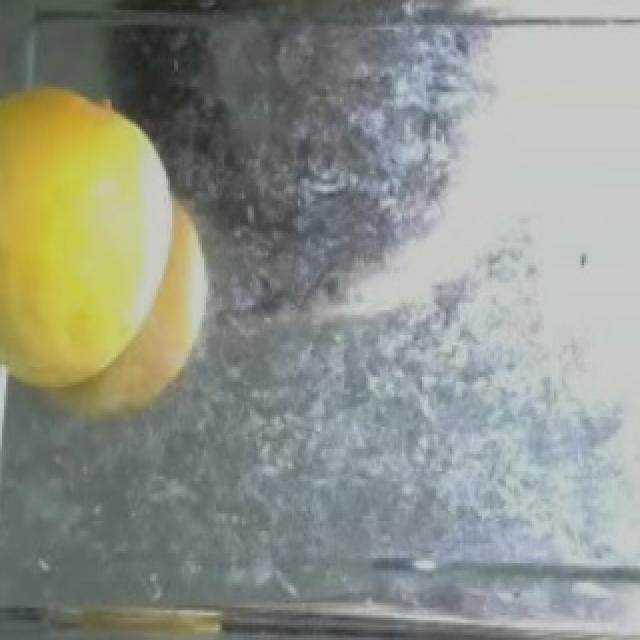fruit: (0, 57, 230, 414)
